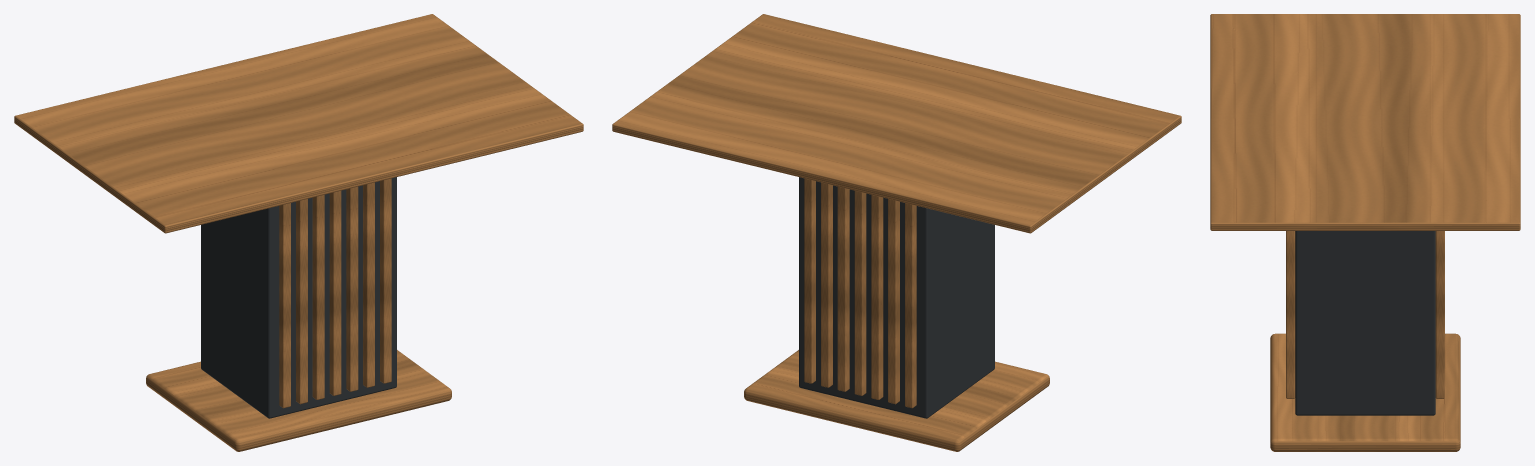
The model's file is table-03-slat-pedestal.glb.
3 renders of one model, left to right at view 1: azimuth 30°, elevation 25°; view 2: azimuth 150°, elevation 25°; view 3: azimuth 270°, elevation 25°, orthographic. The views are drawn at different scales.
Parts seen in each view (by area): view 1: TableTop, Pedestal_Core, Base_Plinth, Slat_Front_05, Slat_Front_04, Slat_Front_03, Slat_Front_01, Slat_Front_06, Slat_Front_07, Slat_Front_02; view 2: TableTop, Pedestal_Core, Base_Plinth, Slat_Back_05, Slat_Back_04, Slat_Back_03, Slat_Back_01, Slat_Back_06, Slat_Back_07, Slat_Back_02; view 3: TableTop, Pedestal_Core, Base_Plinth, Slat_Front_07, Slat_Back_07.
Boxes of the visible parts, x1,y1,x2,y2 form: TableTop: (14,14,583,233); Pedestal_Core: (201,177,396,418); Base_Plinth: (146,350,451,451); Slat_Front_05: (346,186,358,391); Slat_Front_04: (329,191,341,395); Slat_Front_03: (312,195,324,399); Slat_Front_01: (279,203,290,408); Slat_Front_06: (363,182,374,387); Slat_Front_07: (380,178,391,383); Slat_Front_02: (296,199,307,404); TableTop: (612,14,1181,233); Pedestal_Core: (799,177,994,418); Base_Plinth: (744,350,1049,451); Slat_Back_05: (837,186,849,391); Slat_Back_04: (854,191,866,395); Slat_Back_03: (871,195,883,399); Slat_Back_01: (905,203,916,408); Slat_Back_06: (821,182,832,387); Slat_Back_07: (804,178,815,383); Slat_Back_02: (888,199,899,404); TableTop: (1210,14,1520,230); Pedestal_Core: (1295,231,1435,415); Base_Plinth: (1270,333,1460,451); Slat_Front_07: (1286,231,1295,398); Slat_Back_07: (1435,231,1444,398).
Size of the model in its own units: 1.2 by 0.75 by 0.75.
7 materials, 6 textured.
